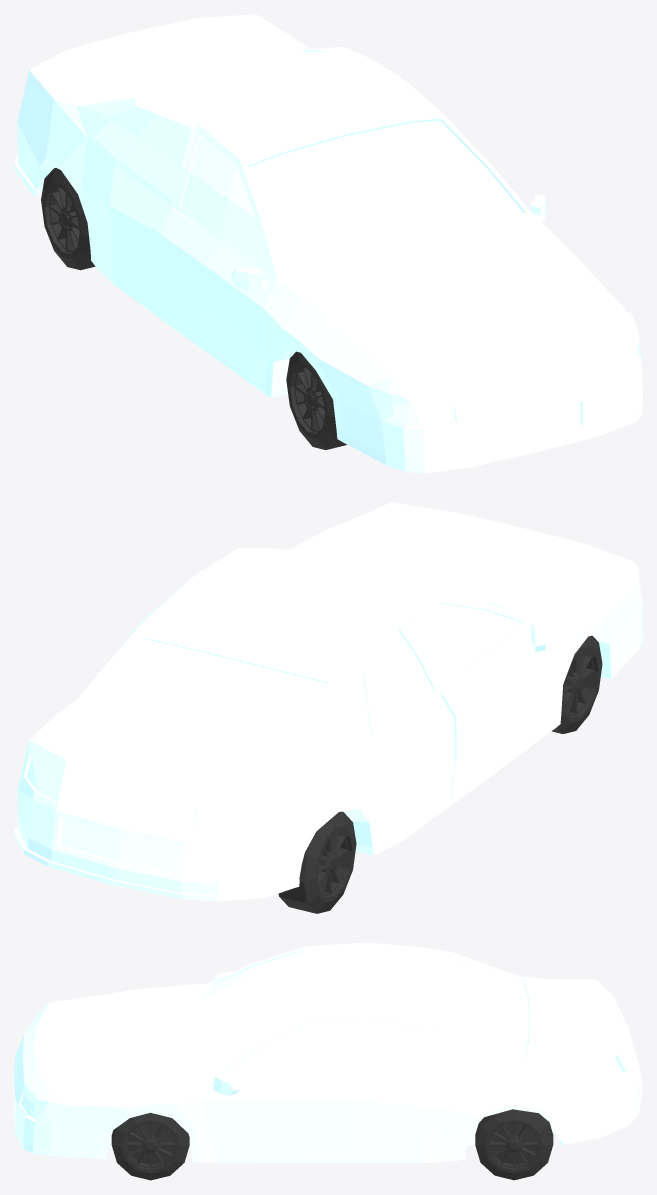
File: NormalCar1_rotated (2).glb
The picture shows the model from 3 angles, top to bottom: view 1: azimuth 30°, elevation 25°; view 2: azimuth 150°, elevation 25°; view 3: azimuth 270°, elevation 25°; orthographic projection. The views are drawn at different scales.
Parts seen in each view (by area): view 1: Body, Back_Wheels, Front_Right_Wheel; view 2: Body, Back_Wheels, Front_Right_Wheel; view 3: Body, Back_Wheels, Front_Left_Wheel.
Boxes of the visible parts, left/top/right/bottom form: Body: left=14, top=14, right=642, bottom=473; Back_Wheels: left=41, top=168, right=95, bottom=270; Front_Right_Wheel: left=286, top=351, right=346, bottom=449; Body: left=14, top=502, right=642, bottom=901; Back_Wheels: left=278, top=811, right=356, bottom=913; Front_Right_Wheel: left=551, top=635, right=602, bottom=733; Body: left=14, top=942, right=642, bottom=1162; Back_Wheels: left=475, top=1109, right=553, bottom=1180; Front_Left_Wheel: left=111, top=1112, right=189, bottom=1180.
Size of the model in its own units: 1.81 by 1.18 by 4.22.
